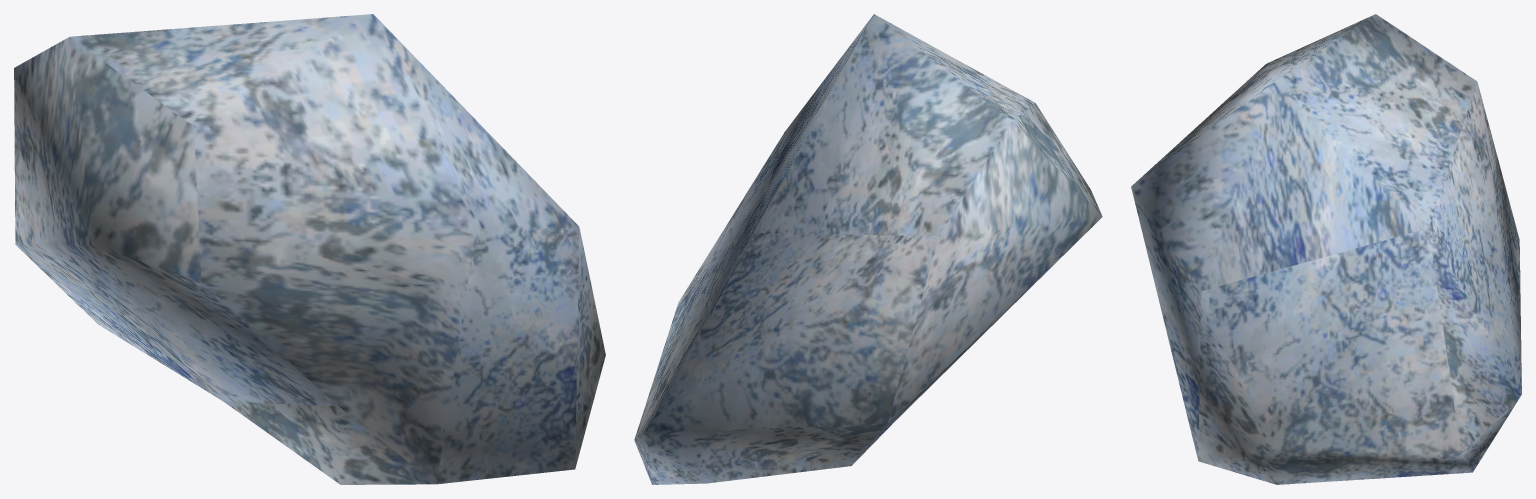
File: asteroid_ice_radial_s01_l3.fbx
The picture shows the model from 3 angles, left to right: view 1: azimuth 30°, elevation 25°; view 2: azimuth 150°, elevation 25°; view 3: azimuth 270°, elevation 25°; orthographic projection. The views are drawn at different scales.
Parts seen in each view (by area): view 1: mesh_node; view 2: mesh_node; view 3: mesh_node.
Boxes of the visible parts, left/top/right/bottom form: mesh_node: left=14, top=14, right=605, bottom=484; mesh_node: left=634, top=14, right=1102, bottom=484; mesh_node: left=1131, top=14, right=1521, bottom=484.
Size of the model in its own units: 4.15 by 3.79 by 3.87.
